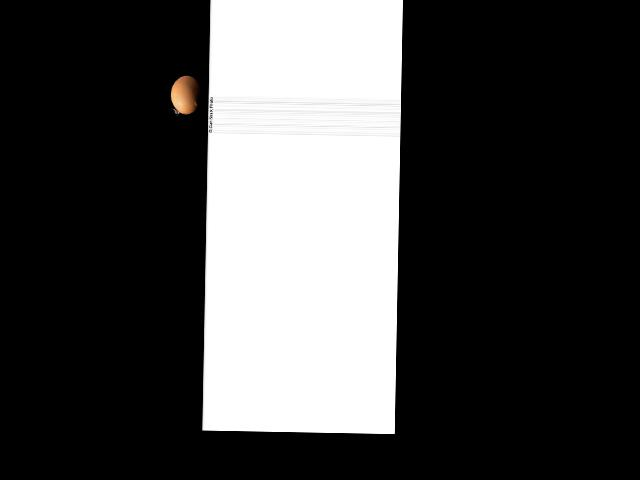egg: (171, 74, 202, 114)
